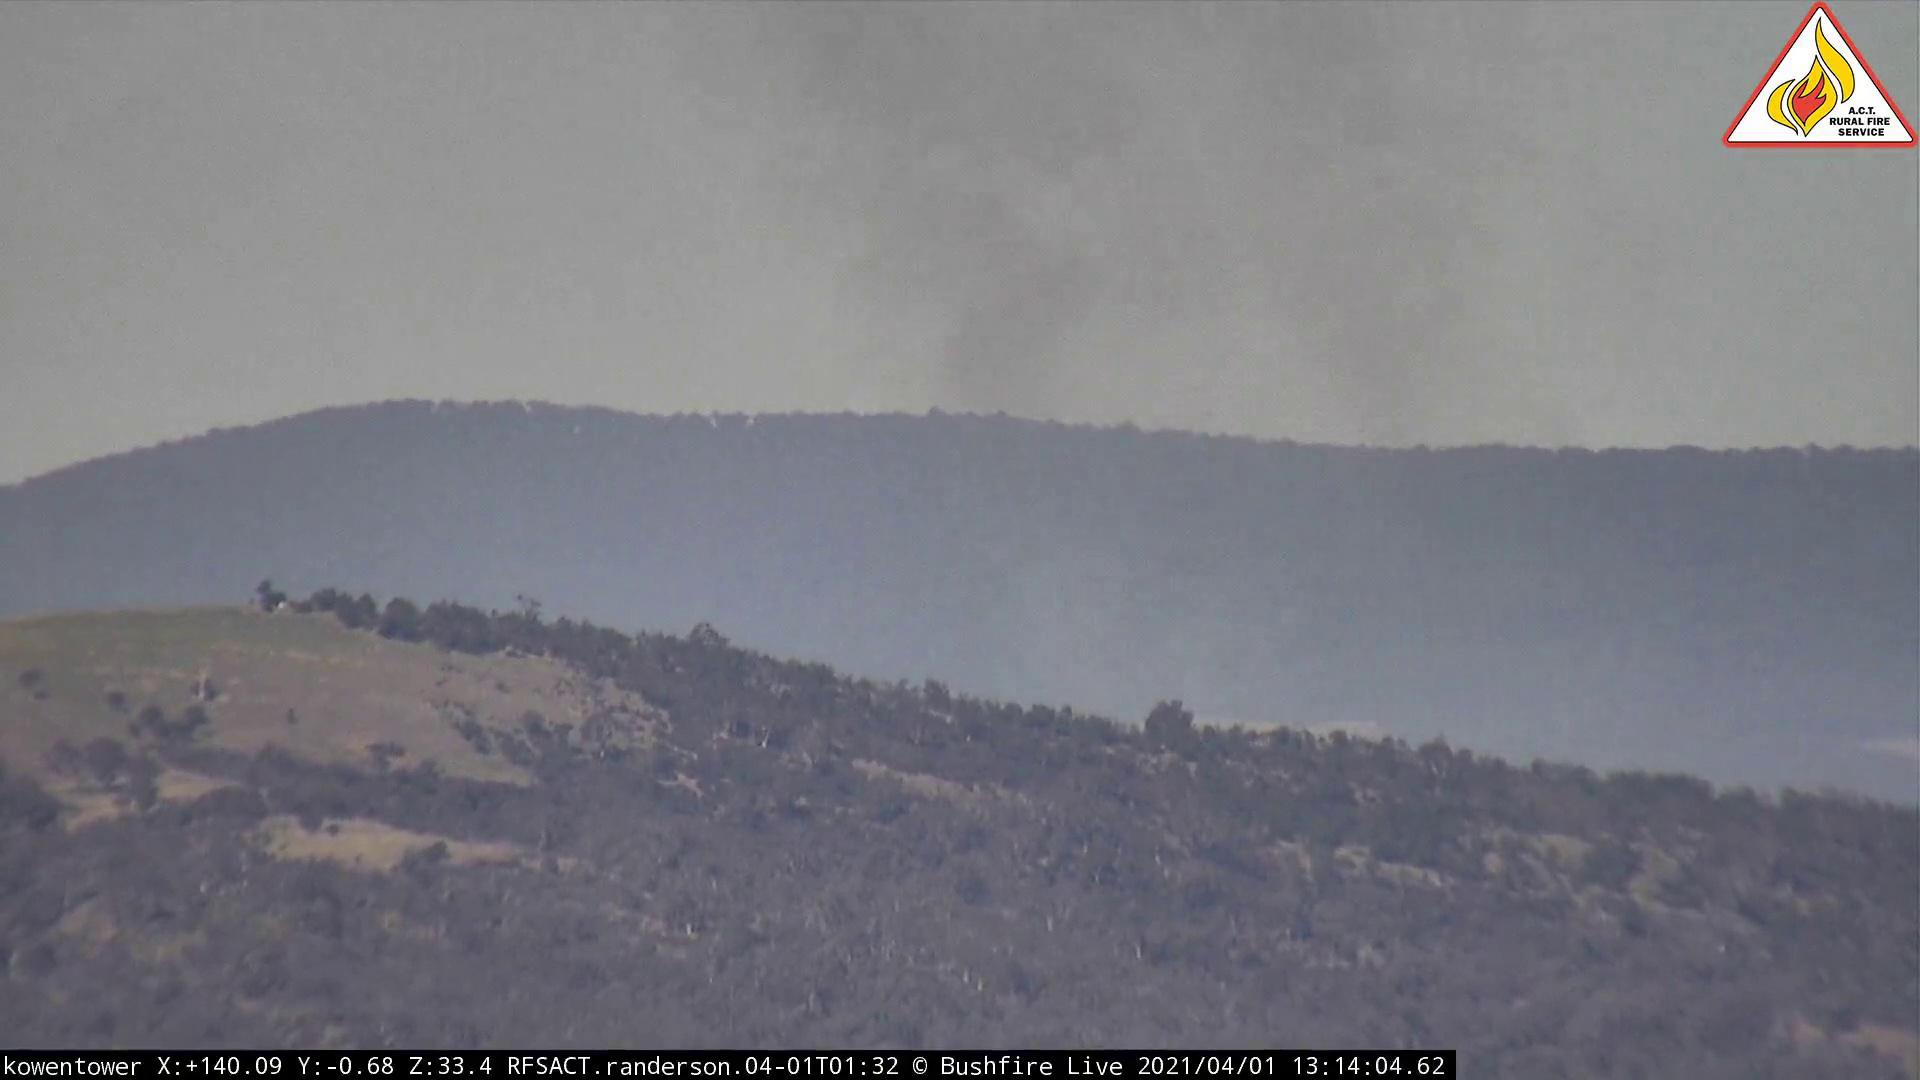Smoke: (671, 3, 1714, 811)
